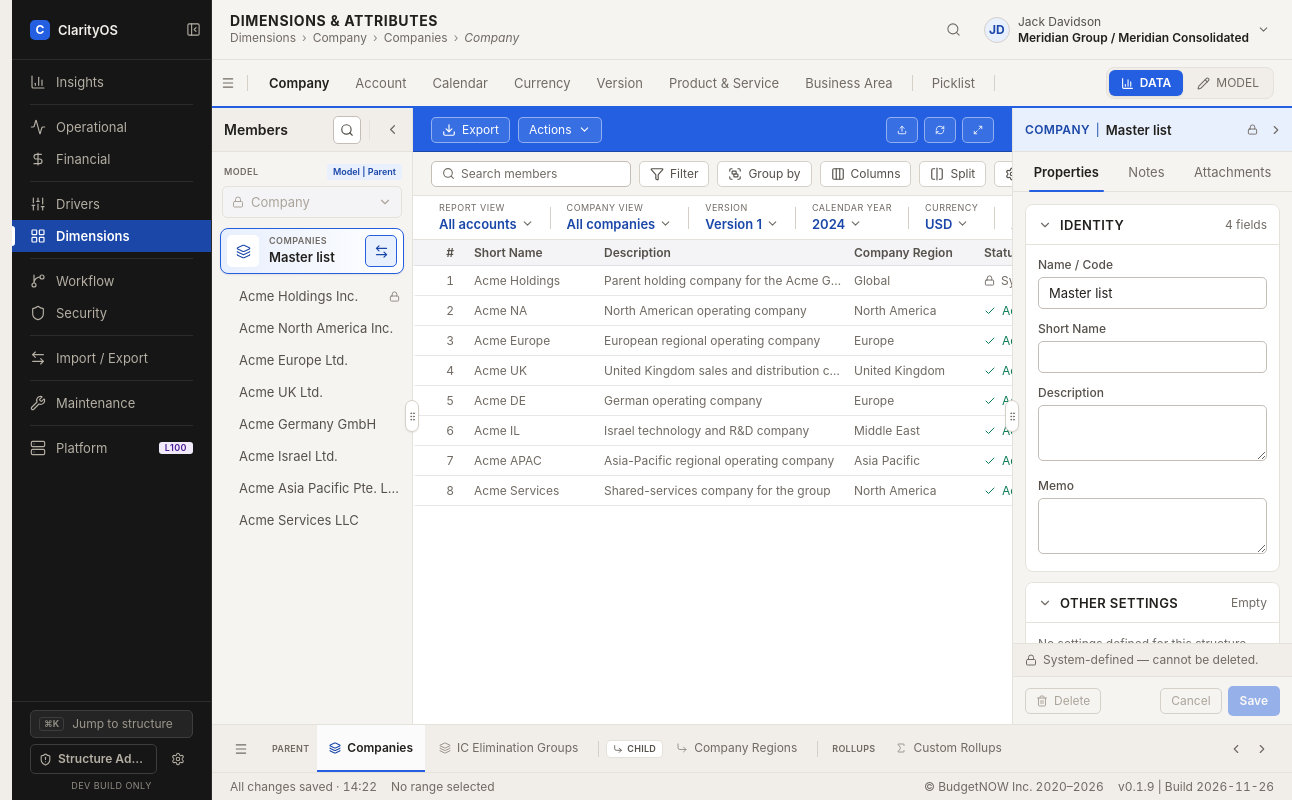
Test case: Fixture A · Company › Company Regions: a blank Short Name falls back to Name / Code, marked as a fallback
The image size is (1292, 800).
Click the tab "Company Regions".
click(737, 748)  # box x1=664 y1=725 x2=809 y2=772
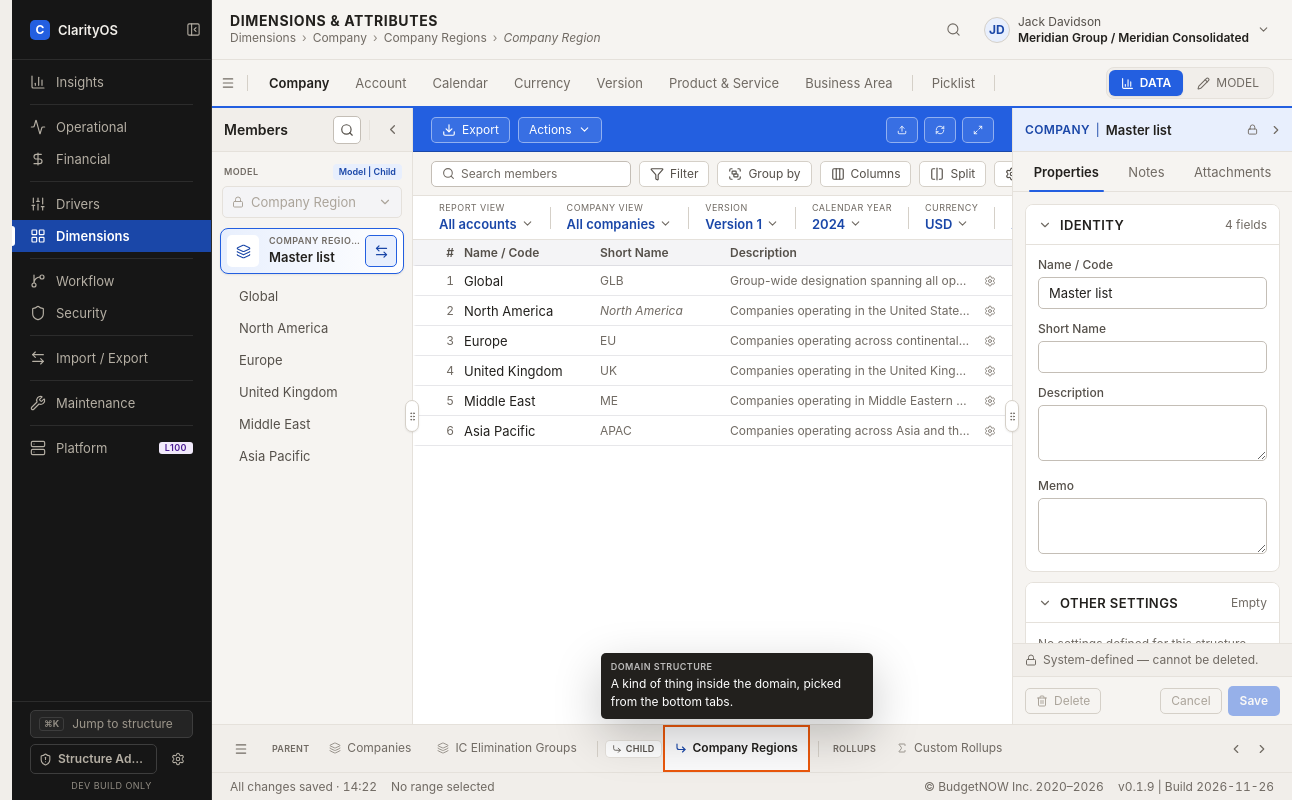
Expected: the element titled "No Short Name — falls back to Name / Code" reads "North America", x1=600 y1=302 x2=683 y2=318
Expected: the list item "2 North America" is shown, x1=464 y1=300 x2=590 y2=320
